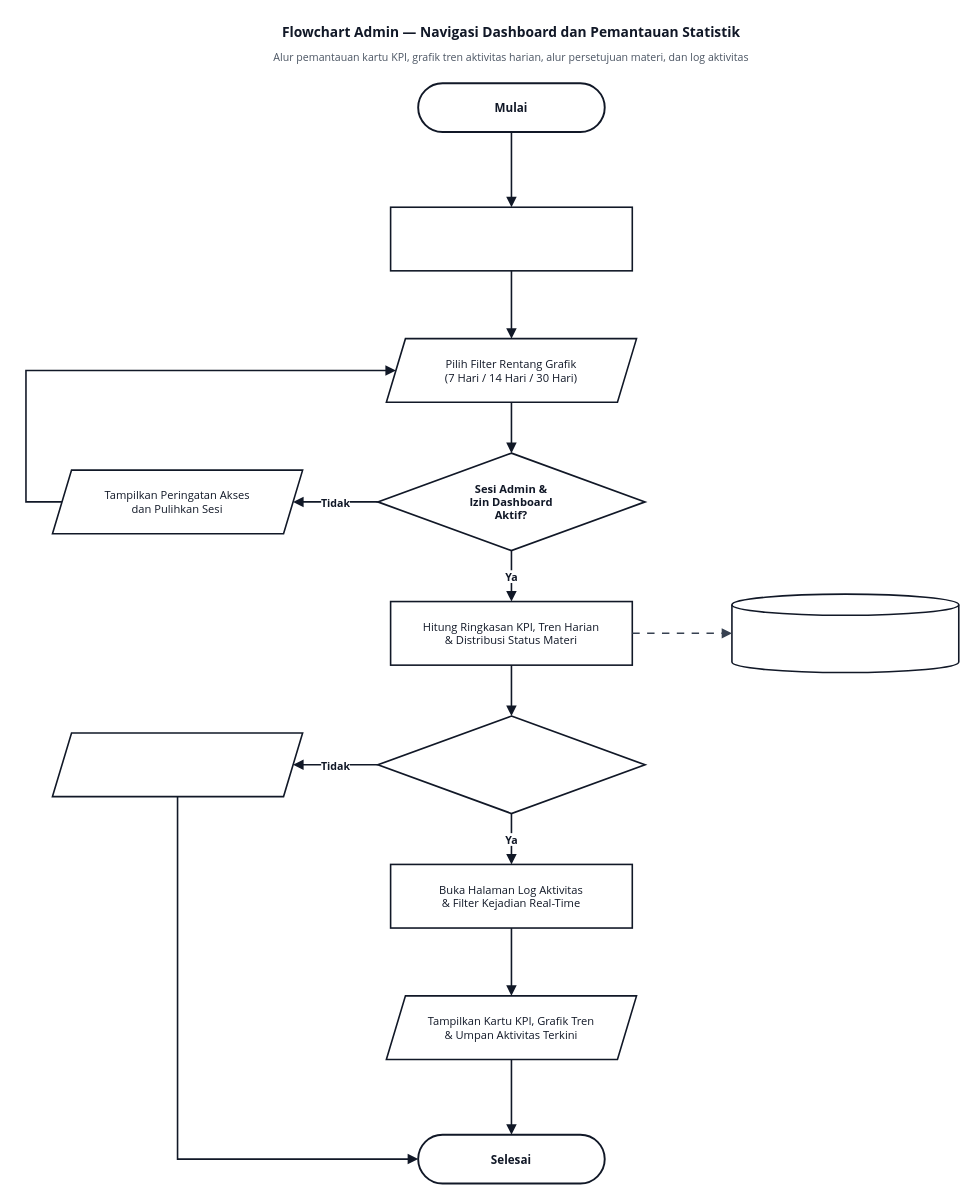
Image size: 978x1202. Some labels were removed from this diagram. Each missing label, with the centre of its shape:
Buka Menu Dashboard pada Sidebar Admin: the point at 511,238
Buka Rincian Log Aktivitas Sistem?: the point at 511,764
SQL Server: dashboard_daily_snapshots & lms_activity_logs: the point at 845,633
Tetap pada Ringkasan Dashboard Utama: the point at 177,764
